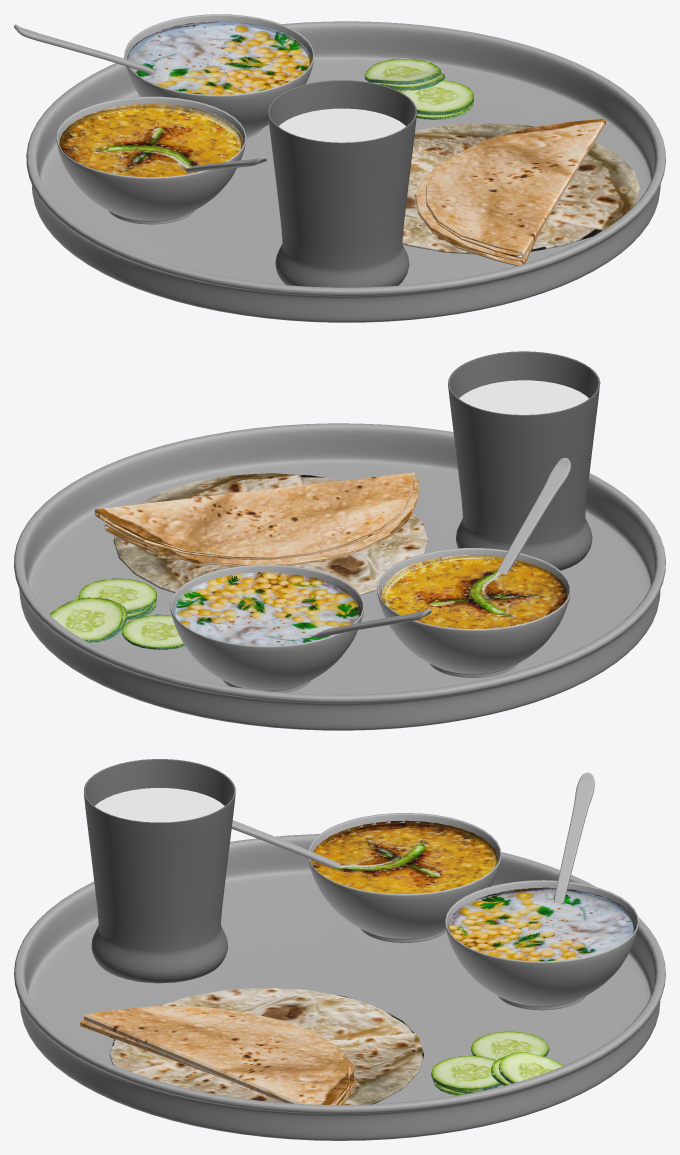
3 renders of one model, top to bottom at view 1: azimuth 30°, elevation 25°; view 2: azimuth 150°, elevation 25°; view 3: azimuth 270°, elevation 25°, orthographic.
Parts seen in each view (by area): view 1: pCylinder3_blinn10_0, pCylinder1_blinn5_0, pPlane12_blinn2_0, pPlane4_blinn9_0, pDisc1_blinn3_0, pCylinder6_blinn11_0, pCylinder5_blinn12_0, pCylinder13_blinn1_0, pCylinder4_blinn13_0, pPlane11_blinn4_0; view 2: pCylinder3_blinn10_0, pCylinder1_blinn5_0, pPlane4_blinn9_0, pPlane12_blinn2_0, pCylinder6_blinn11_0, pCylinder5_blinn12_0, pDisc1_blinn3_0, pCylinder13_blinn1_0, pCylinder4_blinn13_0, pPlane11_blinn4_0; view 3: pCylinder3_blinn10_0, pCylinder1_blinn5_0, pPlane4_blinn9_0, pPlane12_blinn2_0, pDisc1_blinn3_0, pCylinder6_blinn11_0, pCylinder5_blinn12_0, pCylinder13_blinn1_0, pCylinder4_blinn13_0, pPlane11_blinn4_0.
Part boxes in pixels (box(x1,y1,x2,y2)): pCylinder3_blinn10_0: box(26, 21, 665, 322); pCylinder1_blinn5_0: box(267, 80, 416, 287); pPlane12_blinn2_0: box(426, 119, 605, 258); pPlane4_blinn9_0: box(14, 14, 314, 224); pDisc1_blinn3_0: box(402, 122, 639, 254); pCylinder6_blinn11_0: box(127, 21, 310, 94); pCylinder5_blinn12_0: box(59, 103, 243, 177); pCylinder13_blinn1_0: box(364, 58, 473, 119); pCylinder4_blinn13_0: box(279, 108, 405, 142); pPlane11_blinn4_0: box(415, 146, 539, 265); pCylinder3_blinn10_0: box(14, 423, 665, 730); pCylinder1_blinn5_0: box(448, 351, 600, 570); pPlane4_blinn9_0: box(170, 458, 570, 692); pPlane12_blinn2_0: box(94, 472, 415, 559); pCylinder6_blinn11_0: box(173, 572, 360, 645); pCylinder5_blinn12_0: box(380, 555, 567, 628); pDisc1_blinn3_0: box(113, 473, 428, 595); pCylinder13_blinn1_0: box(49, 578, 184, 649); pCylinder4_blinn13_0: box(459, 380, 588, 414); pPlane11_blinn4_0: box(104, 478, 418, 566); pCylinder3_blinn10_0: box(14, 834, 665, 1140); pCylinder1_blinn5_0: box(84, 759, 235, 983); pPlane4_blinn9_0: box(231, 772, 638, 1010); pPlane12_blinn2_0: box(84, 1006, 350, 1104); pDisc1_blinn3_0: box(109, 987, 423, 1104); pCylinder6_blinn11_0: box(448, 887, 635, 961); pCylinder5_blinn12_0: box(311, 820, 498, 893); pCylinder13_blinn1_0: box(431, 1031, 564, 1095); pCylinder4_blinn13_0: box(95, 788, 224, 822); pPlane11_blinn4_0: box(80, 1012, 354, 1104).
Bounding box in the file's own units: 0.0576 × 0.0167 × 0.0576.
10 materials, 6 textured.
